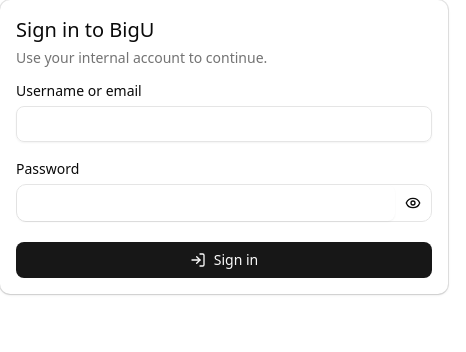
LoginForm › displays backend errors
In the field labelled "Username or email": (224, 124) [16,106,432,142], type "unknown"
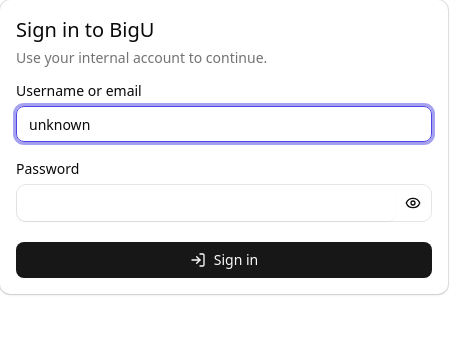
In the password field labelled "Password": (206, 203) [17,185,395,221], type "wrong"
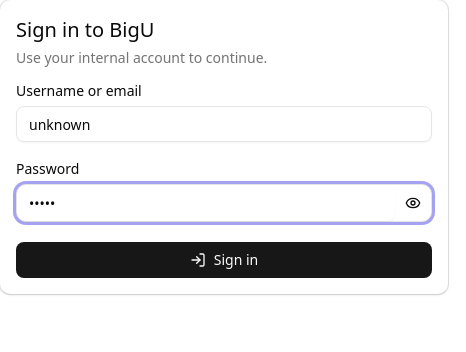
Click the button "Sign in": (224, 260) [16,242,432,278]
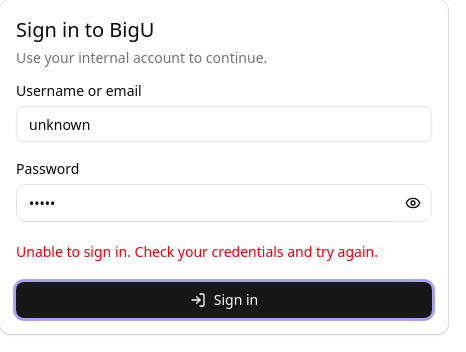
Check: the message shows "Unable to sign in", box [16,242,378,261]
